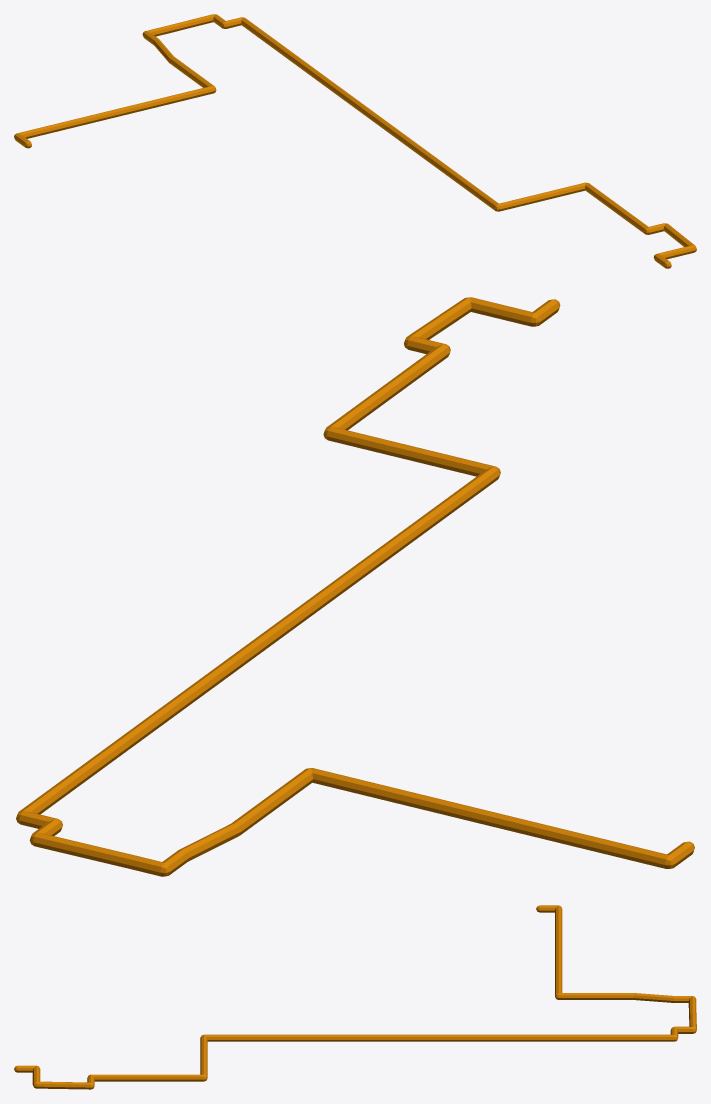
3 renders of one model, top to bottom at view 1: azimuth 30°, elevation 25°; view 2: azimuth 150°, elevation 25°; view 3: azimuth 270°, elevation 25°, orthographic. The views are drawn at different scales.
Size of the model in its own units: 1133 by 20 by 1815.
